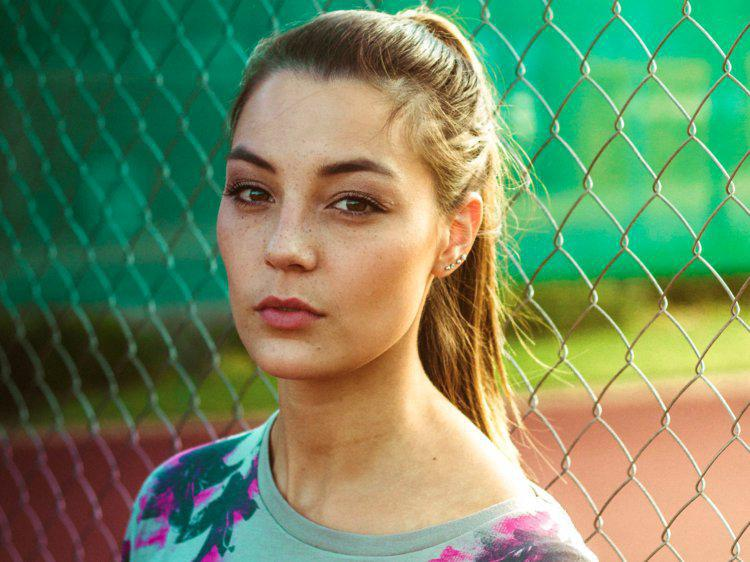Sober: (218, 107, 440, 342)
